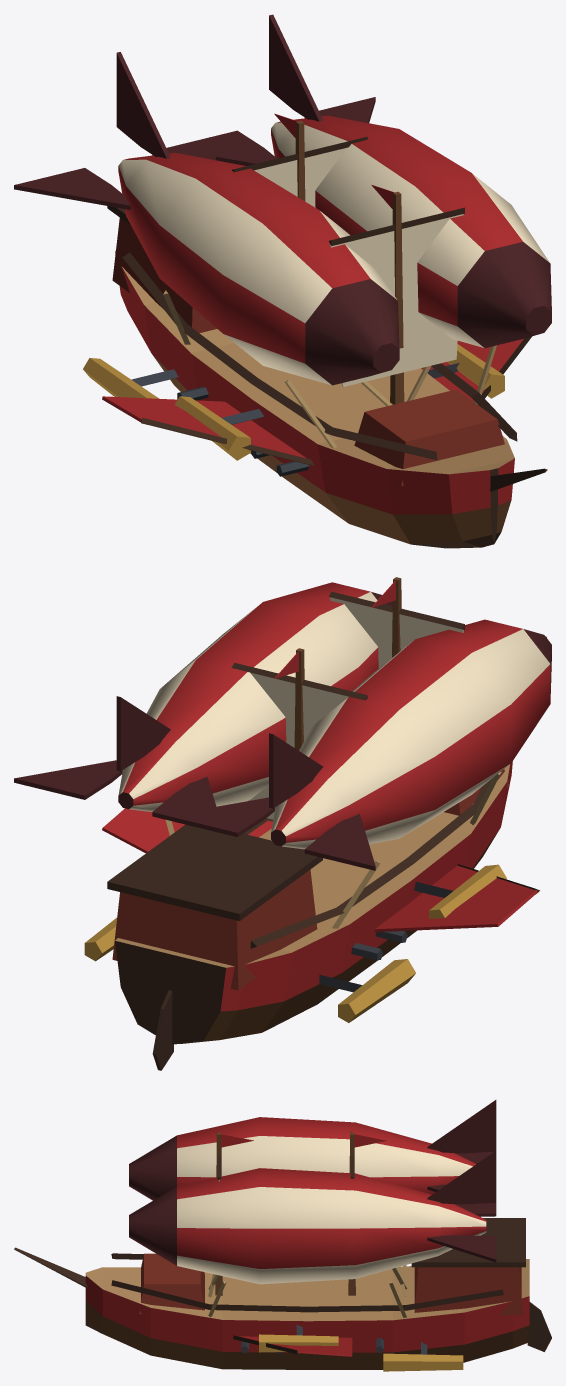
Rendered from SM_Ship_Galleon_LQ.glb.
3 renders of one model, top to bottom at view 1: azimuth 30°, elevation 25°; view 2: azimuth 150°, elevation 25°; view 3: azimuth 270°, elevation 25°, orthographic. The views are drawn at different scales.
Visible parts, largest first — view 1: SM_Ship_Galleon_LQ; view 2: SM_Ship_Galleon_LQ; view 3: SM_Ship_Galleon_LQ.
Part boxes in pixels (x1,y1,x2,y2): SM_Ship_Galleon_LQ: (14, 14, 551, 548); SM_Ship_Galleon_LQ: (14, 577, 551, 1070); SM_Ship_Galleon_LQ: (14, 1100, 551, 1371).
Size of the model in its own units: 17.06 by 14.18 by 29.07.
1 material, 1 textured.
